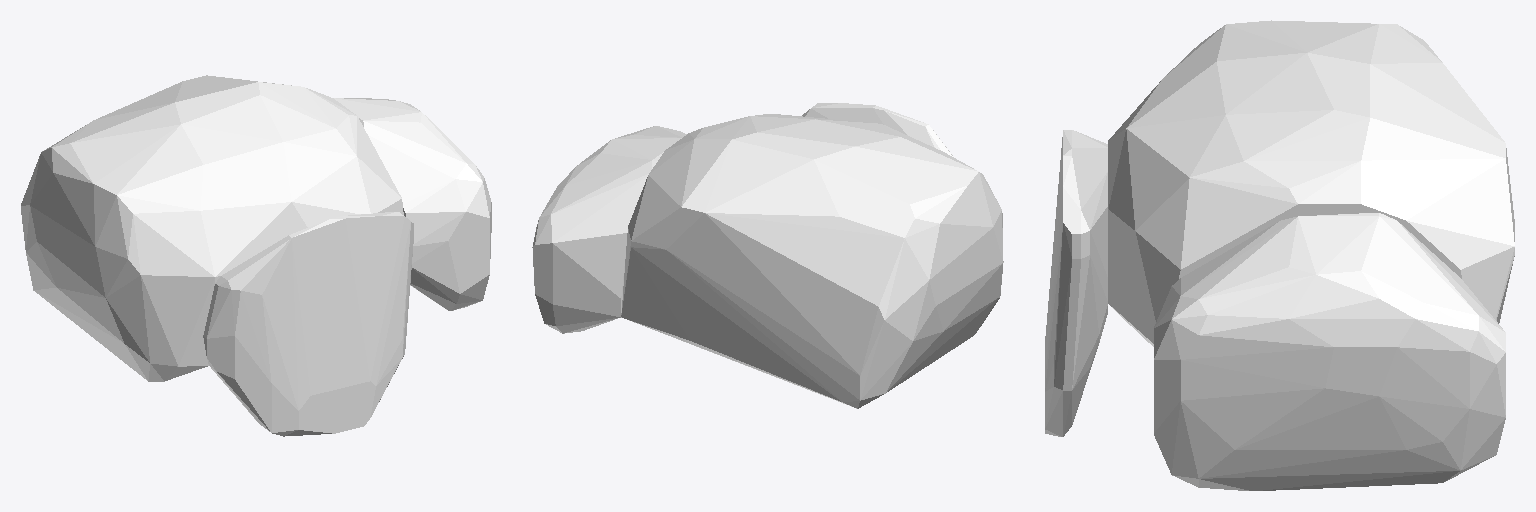
robot.urdf — two.urdf:
<?xml version="1.0" ?>
<robot name="two.urdf">
  <link name="baseLink">
    <inertial>
      <origin rpy="0 0 0" xyz="0 0 0"/>
       <mass value="0.0"/>
       <inertia ixx="0" ixy="0" ixz="0" iyy="0" iyz="0" izz="0"/>
    </inertial>
    <visual>
      <origin rpy="0 0 0" xyz="0 0 0"/>
      <geometry>
        <mesh filename="two.obj" scale="1.0 1.0 1.0"/>
      </geometry>
      <material name="white">
       <color rgba="1 1 1 1"/>
     </material>
    </visual>
    <collision>
      <origin rpy="0 0 0" xyz="0 0 0"/>
      <geometry>
        <mesh filename="two.obj" scale="1.0 1.0 1.0"/>
        <!-- You could also specify the collision (for the two) with a "box" tag: -->
        <!-- <box size=".06 .06 .06"/> -->
      </geometry>
    </collision>
  </link>
</robot>
        

--- Render facts (derived) ---
3 views of the same robot in one strip: view 1: azimuth 30°, elevation 25°; view 2: azimuth 150°, elevation 25°; view 3: azimuth 270°, elevation 25° (orthographic).
Model two.urdf with 1 links and 0 joints (none), rooted at baseLink, posed all joints at 0.
Visible links, largest first — view 1: baseLink; view 2: baseLink; view 3: baseLink.
Link boxes in pixels (bbox=[...]): baseLink: bbox=[21, 75, 491, 436]; baseLink: bbox=[532, 103, 1003, 408]; baseLink: bbox=[1045, 20, 1514, 490].
Size in the robot's own frame: 0.1581 by 0.1284 by 0.0988 metres.
1 mesh visuals loaded from 1 distinct referenced files (1 OBJ).